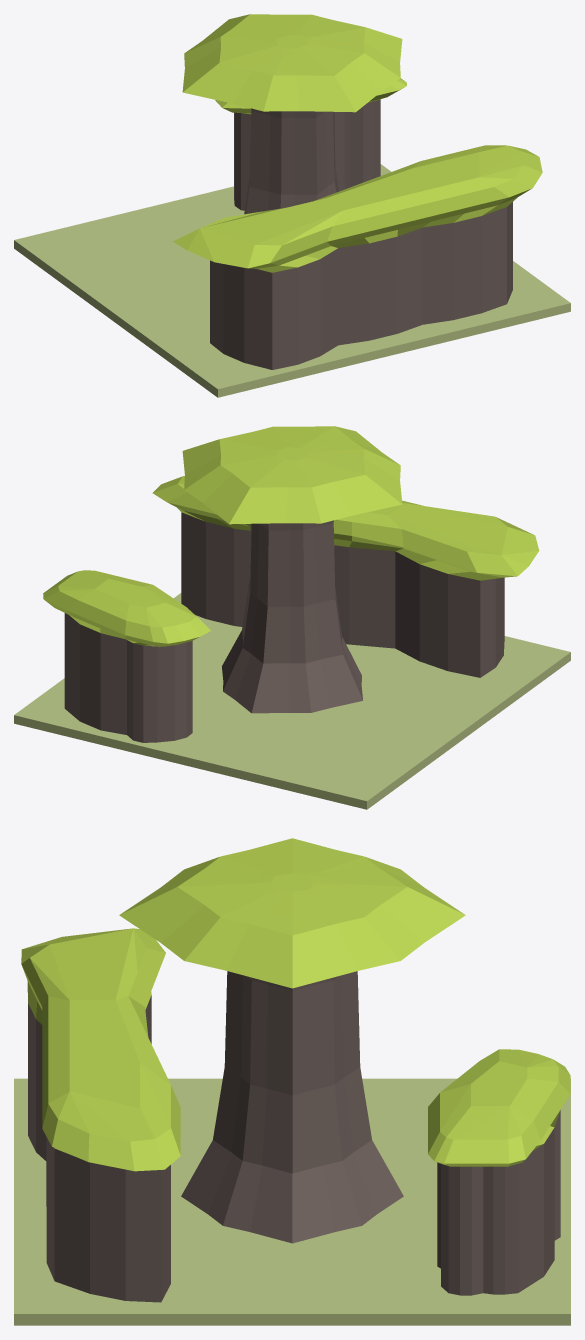
File: Forest III.fbx
The picture shows the model from 3 angles, top to bottom: view 1: azimuth 30°, elevation 25°; view 2: azimuth 150°, elevation 25°; view 3: azimuth 270°, elevation 25°; orthographic projection. The views are drawn at different scales.
Parts seen in each view (by area): view 1: Forest III; view 2: Forest III; view 3: Forest III.
Boxes of the visible parts, box(x1,y1,x2,y2) form: Forest III: box(14, 14, 570, 397); Forest III: box(14, 426, 570, 809); Forest III: box(14, 838, 570, 1325).
Bounding box in the file's own units: 1658 × 1036 × 1600.
